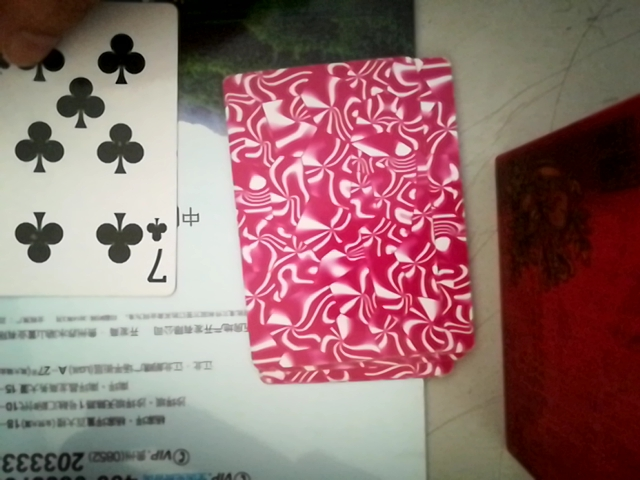mh 7: (0, 11, 184, 318)
